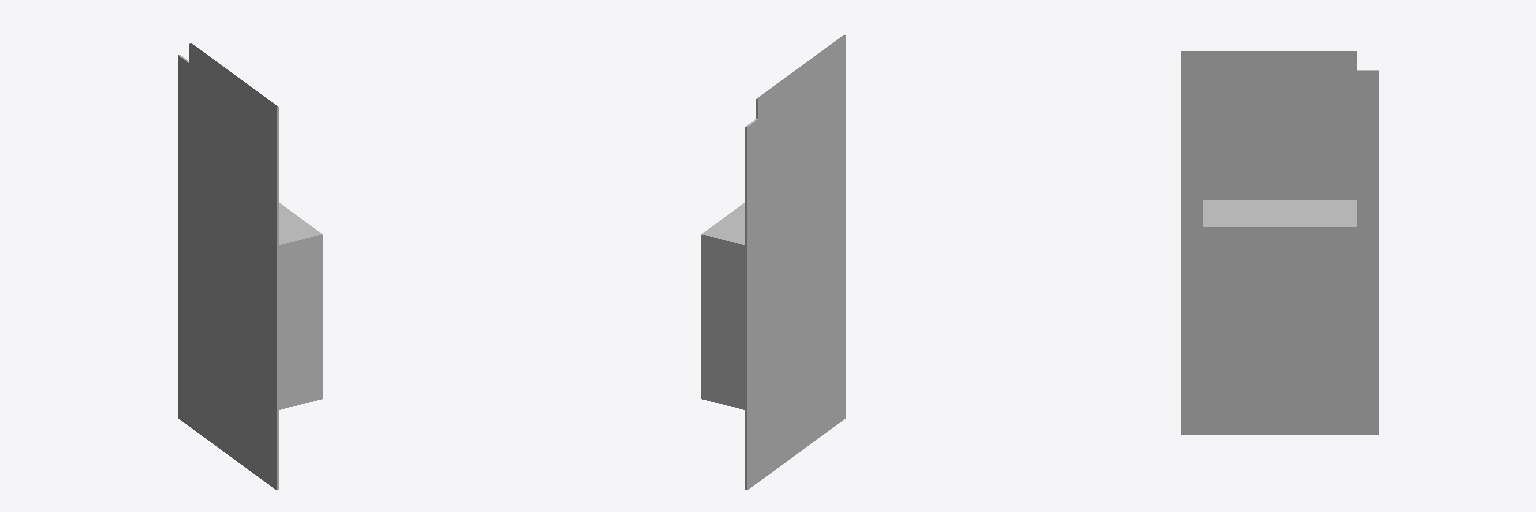
File: safety_first_outlet_plugs.obj
The picture shows the model from 3 angles: view 1: azimuth 30°, elevation 25°; view 2: azimuth 150°, elevation 25°; view 3: azimuth 270°, elevation 25°; orthographic projection.
Size of the model in its own units: 0.03 by 0.193 by 0.09.